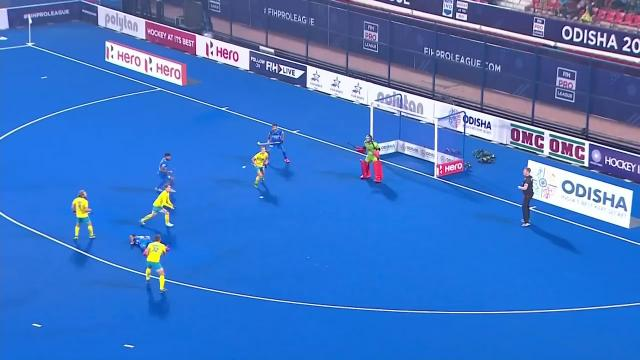ball: (242, 165, 246, 170)
